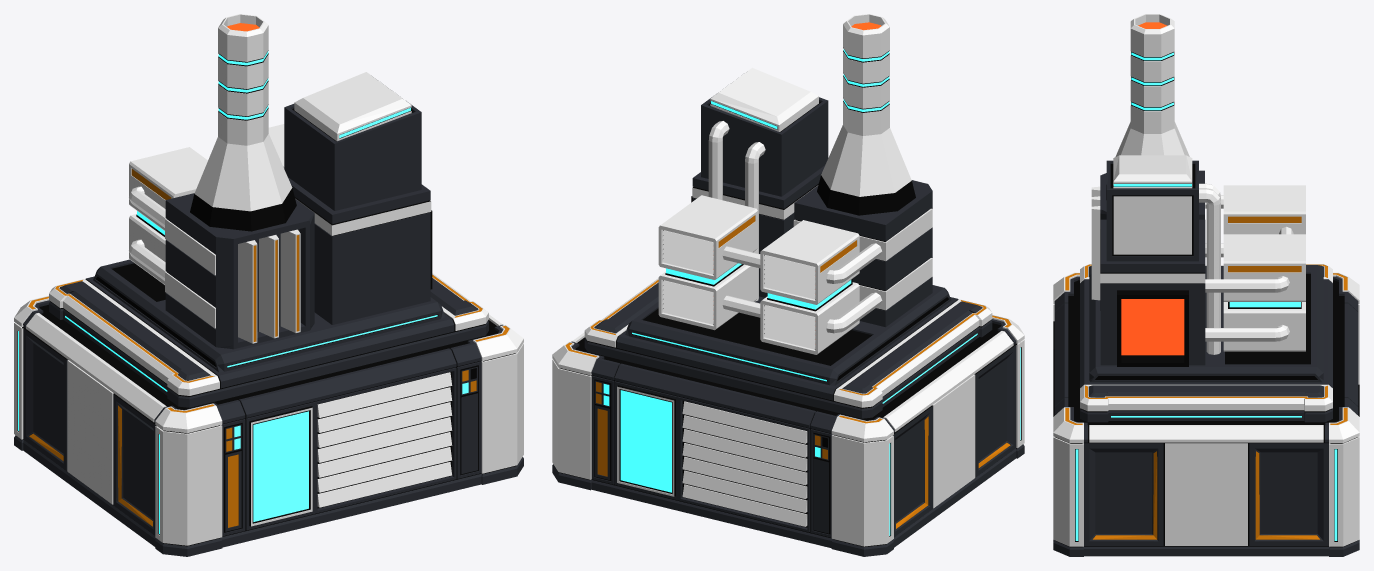
Rendered from SM_Thermal_T2.fbx.
3 renders of one model, left to right at view 1: azimuth 30°, elevation 25°; view 2: azimuth 150°, elevation 25°; view 3: azimuth 270°, elevation 25°, orthographic. The views are drawn at different scales.
Parts seen in each view (by area): view 1: SM_Thermal_T2; view 2: SM_Thermal_T2; view 3: SM_Thermal_T2.
Part boxes in pixels (bbox=[...]): SM_Thermal_T2: bbox=[14, 14, 523, 556]; SM_Thermal_T2: bbox=[552, 14, 1024, 556]; SM_Thermal_T2: bbox=[1053, 14, 1359, 556].
Bounding box in the file's own units: 250 × 309 × 200.
